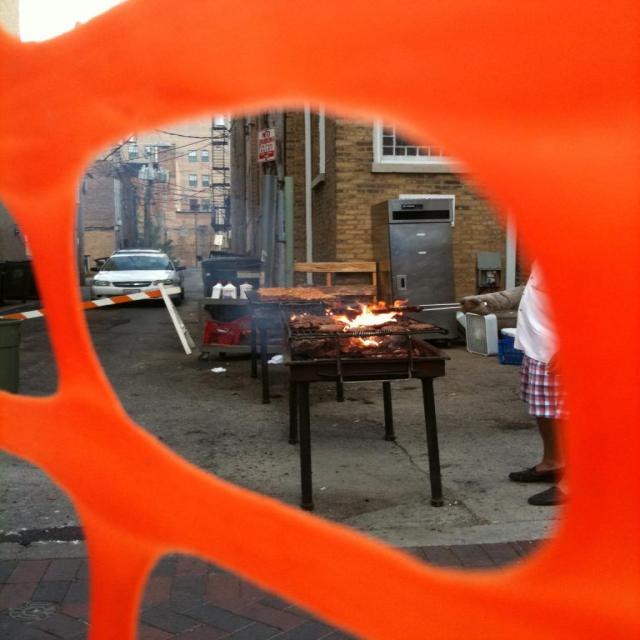car: (80, 241, 179, 296)
